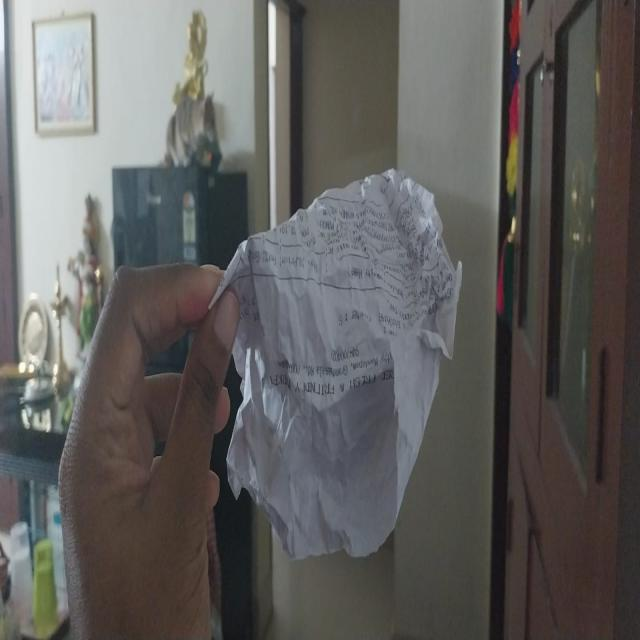Paper - Recyclable: (205, 165, 463, 562)
